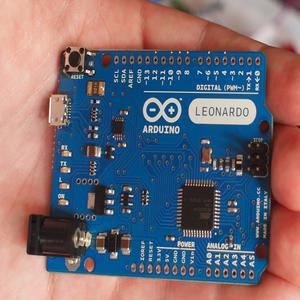duino: (38, 30, 273, 282)
